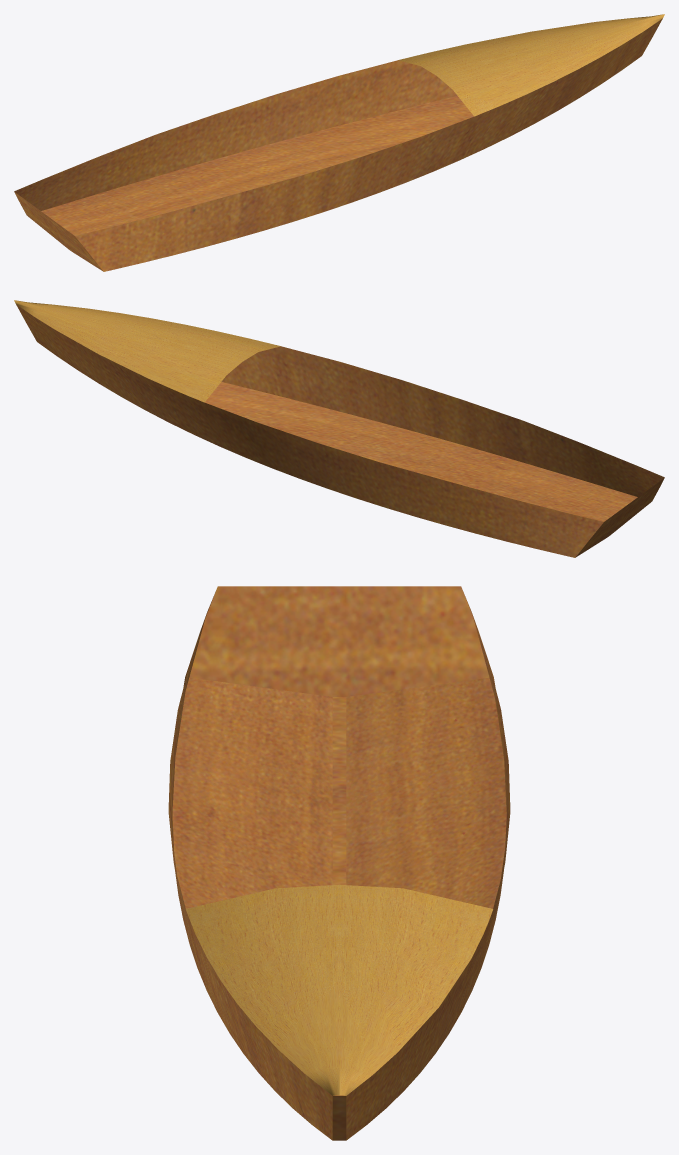
Rendered from boat2.obj.
3 renders of one model, top to bottom at view 1: azimuth 30°, elevation 25°; view 2: azimuth 150°, elevation 25°; view 3: azimuth 270°, elevation 25°, orthographic. The views are drawn at different scales.
Parts seen in each view (by area): view 1: object_1, object_2, object_3; view 2: object_1, object_3, object_2; view 3: object_1, object_2, object_3.
Boxes of the visible parts, box(x1,y1,x2,y2) form: object_1: box(14, 18, 662, 271); object_2: box(437, 14, 664, 116); object_3: box(398, 14, 662, 75); object_1: box(16, 304, 664, 557); object_3: box(14, 300, 241, 402); object_2: box(16, 300, 280, 361); object_1: box(168, 586, 510, 1140); object_2: box(185, 884, 339, 1095); object_3: box(339, 885, 493, 1095).
Size of the model in its own units: 104 by 14.63 by 24.88.
Materials: 3 (3 with a texture image).
